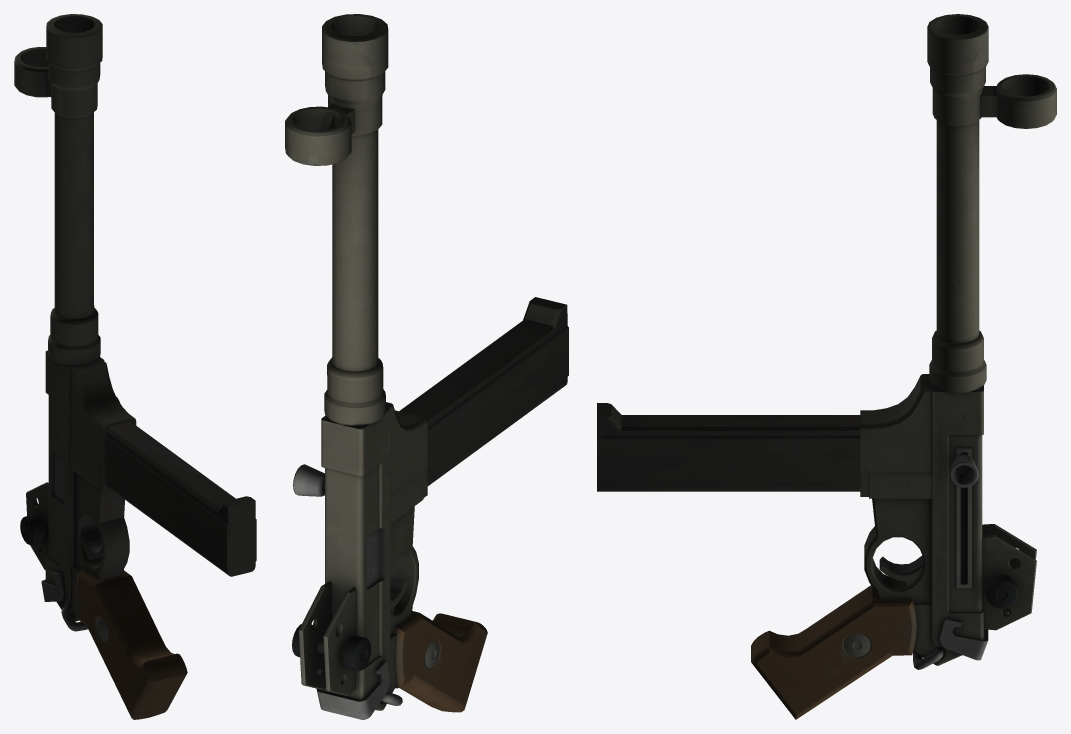
The model's file is c_smg.glb.
The picture shows the model from 3 angles, left to right: view 1: azimuth 30°, elevation 25°; view 2: azimuth 150°, elevation 25°; view 3: azimuth 270°, elevation 25°; orthographic projection. The views are drawn at different scales.
Parts seen in each view (by area): view 1: c_smg; view 2: c_smg; view 3: c_smg.
Boxes of the visible parts, x1,y1,x2,y2 form: c_smg: (14,14,256,719); c_smg: (285,14,568,719); c_smg: (597,14,1056,719).
Size of the model in its own units: 3.63 by 30.58 by 18.5.
Materials: 1 (1 with a texture image).
